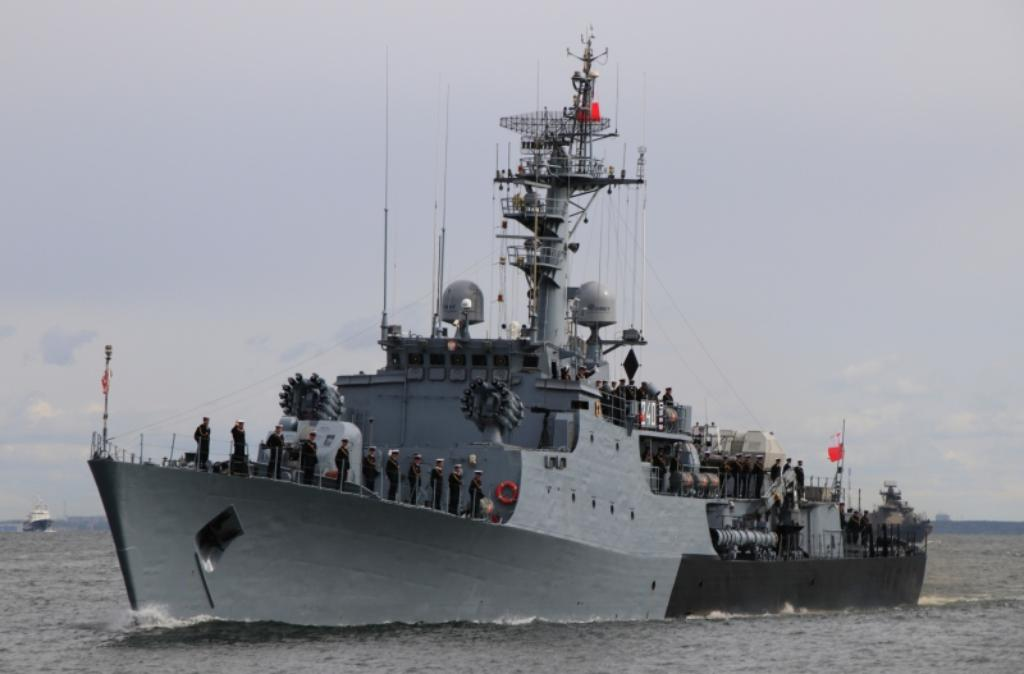Warship: (86, 22, 936, 640), (862, 478, 934, 546)
